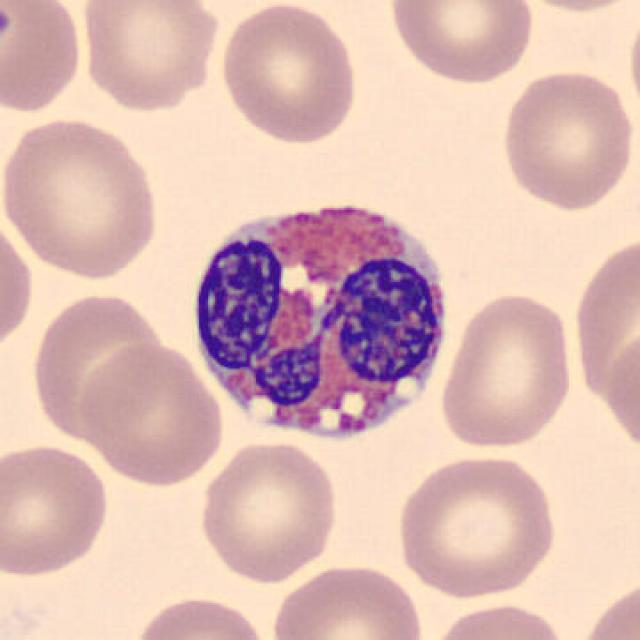Eosinophil: (180, 185, 460, 462)
Platelets: (0, 5, 14, 50)
RBC: (0, 113, 164, 282), (391, 450, 562, 601), (437, 289, 578, 453), (76, 338, 228, 488), (29, 285, 171, 445), (194, 438, 341, 586), (215, 0, 362, 146), (496, 65, 636, 214), (76, 0, 224, 115), (0, 439, 112, 582), (569, 229, 640, 430), (384, 0, 537, 86), (268, 560, 430, 640), (0, 0, 87, 118), (128, 592, 274, 640), (423, 599, 571, 640), (602, 321, 640, 464), (0, 212, 36, 362), (572, 573, 638, 640), (505, 0, 640, 16), (626, 0, 640, 134)
